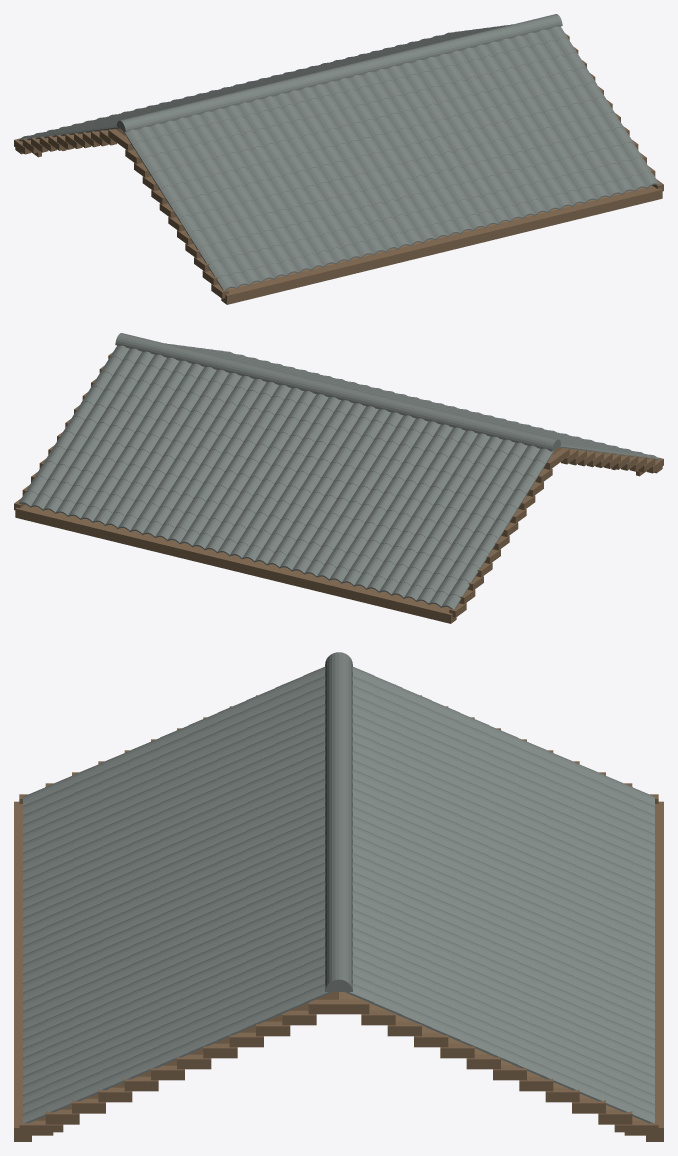
Rendered from ueda_clay_roof.glb.
3 views of the same model, one above another, from view 1: azimuth 30°, elevation 25°; view 2: azimuth 150°, elevation 25°; view 3: azimuth 270°, elevation 25° (orthographic). The views are drawn at different scales.
Parts seen in each view (by area): view 1: OverlappingCurvedClayTiles, EaveBeamsAndSoffit; view 2: OverlappingCurvedClayTiles, EaveBeamsAndSoffit; view 3: OverlappingCurvedClayTiles, EaveBeamsAndSoffit.
Boxes of the visible parts, x1,y1,x2,y2 form: OverlappingCurvedClayTiles: (19, 14, 659, 290); EaveBeamsAndSoffit: (14, 33, 663, 304); OverlappingCurvedClayTiles: (18, 333, 658, 609); EaveBeamsAndSoffit: (14, 352, 663, 623); OverlappingCurvedClayTiles: (23, 652, 654, 1123); EaveBeamsAndSoffit: (14, 684, 663, 1141).
Bounding box in the file's own units: 11.28 × 2.6 × 9.36.
